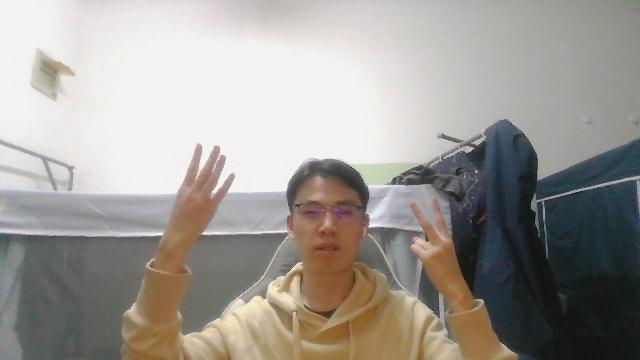four: (163, 138, 237, 248)
yes: (405, 196, 467, 293)
